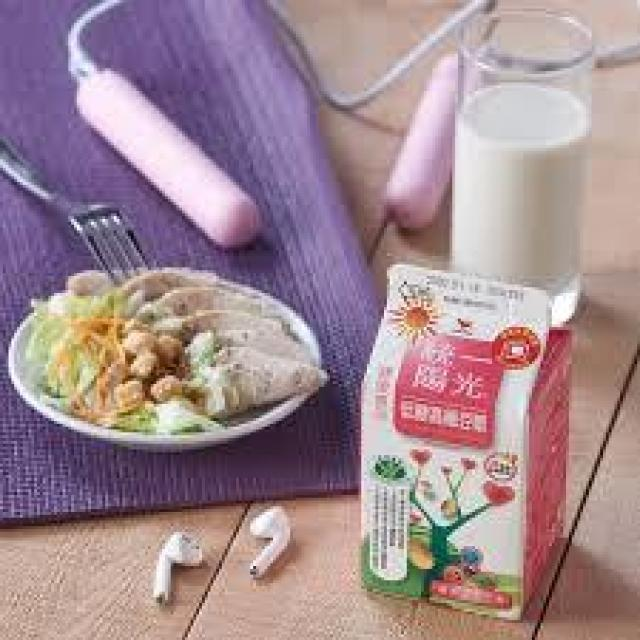TongYi_LowSugarHighFiberSoyMilk: (362, 258, 574, 632)
